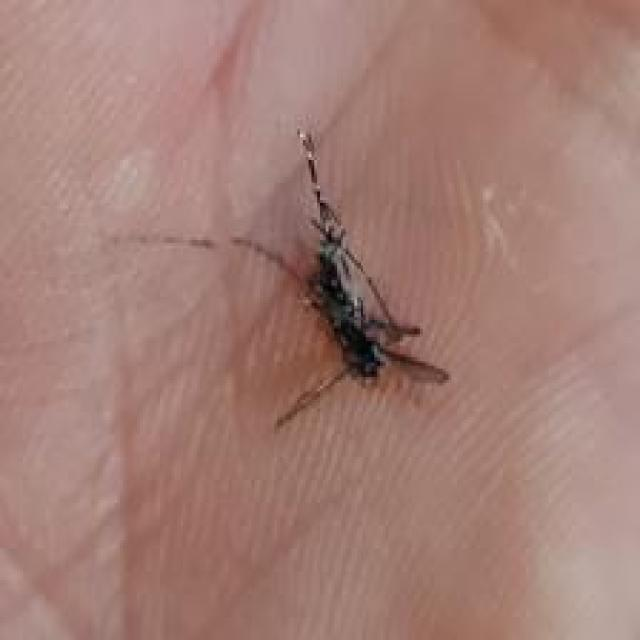Aedes albopictus: (272, 127, 452, 430)
